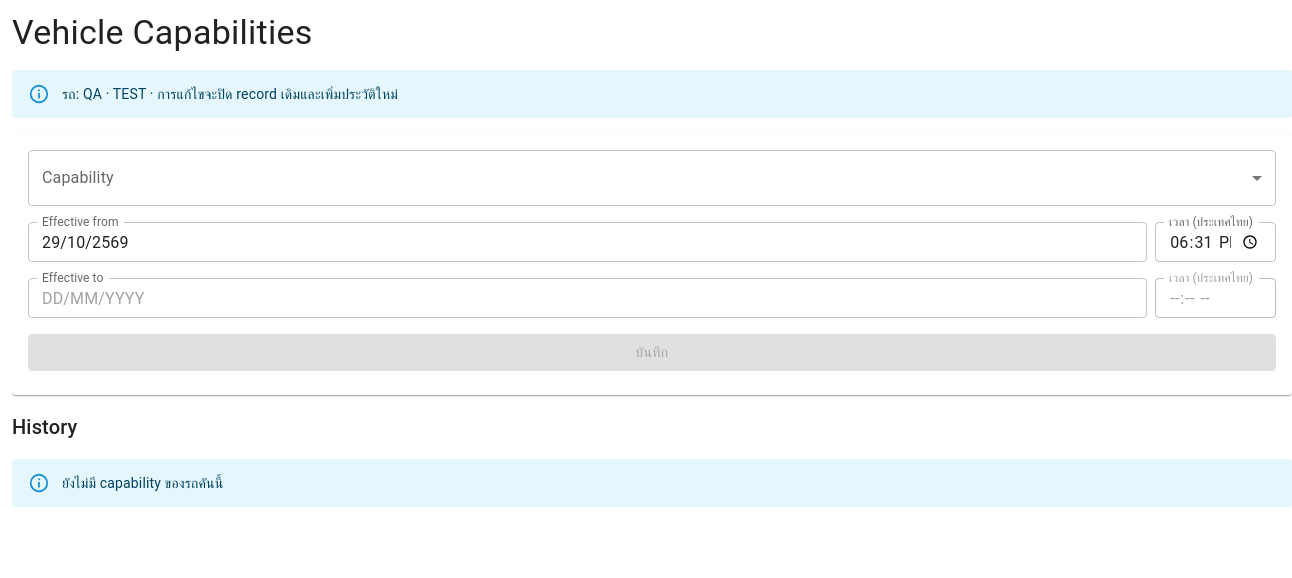
Fleet M4.2 capability UI › renders vehicle context and boolean editor
Expected: the text "รถ: QA · TEST · การแก้ไขจะปิด record เดิมและเพิ่มประวัติใหม่" is shown, [62, 86, 398, 102]
Press the mouse on the dropdown named "Capability": (652, 178) [28, 150, 1276, 206]
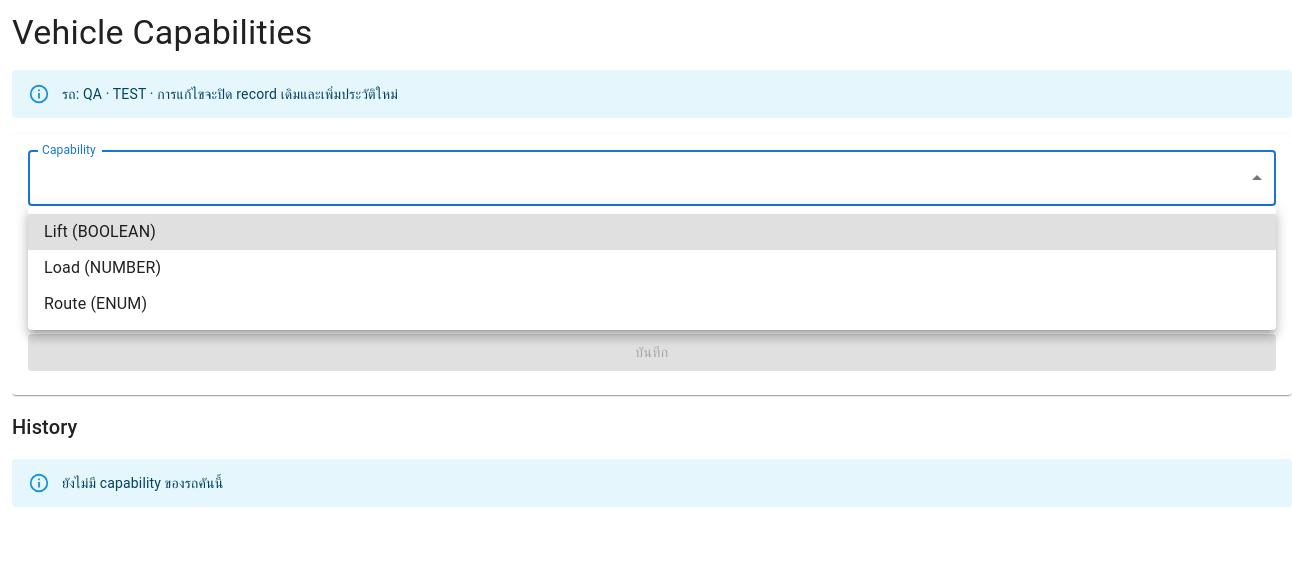
Click the option "Lift (BOOLEAN)": (114, 232) [28, 214, 1276, 250]
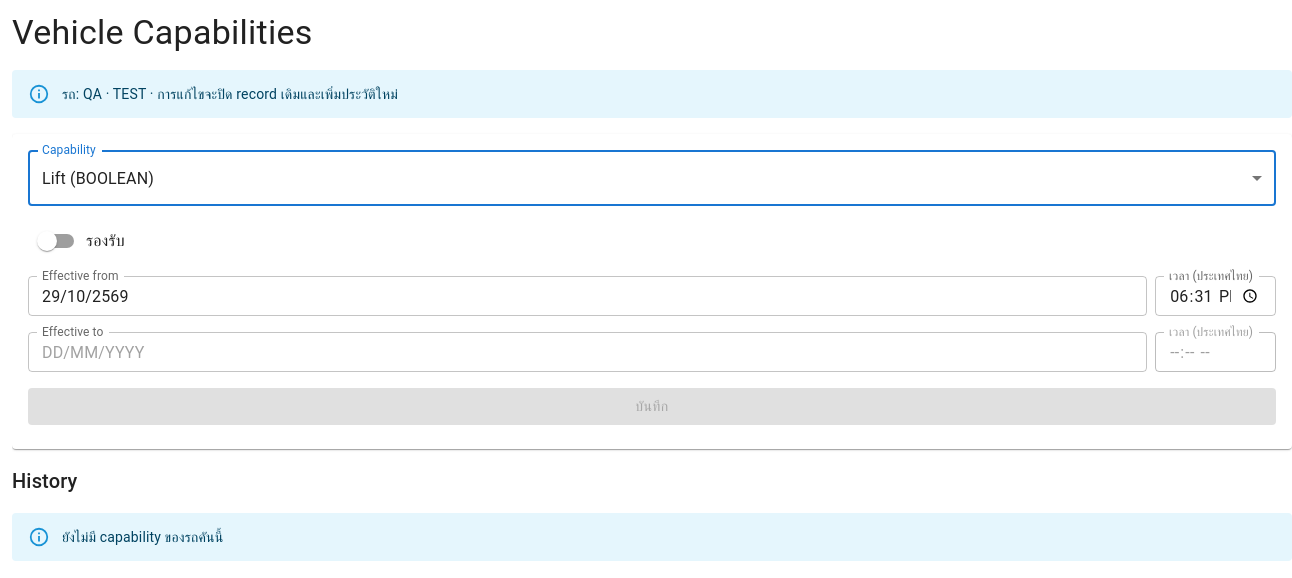
Now the checkbox labelled "รองรับ" is shown, box [37, 231, 125, 251]
